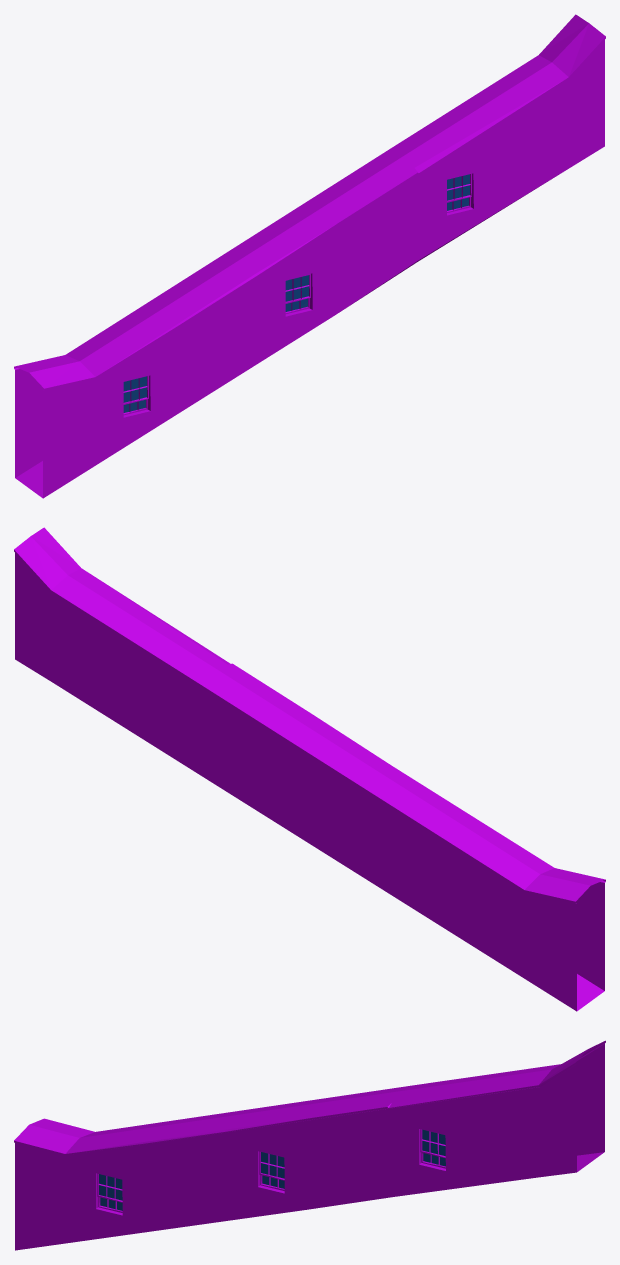
The model's file is Industrial_Path.fbx.
The picture shows the model from 3 angles, top to bottom: view 1: azimuth 30°, elevation 25°; view 2: azimuth 150°, elevation 25°; view 3: azimuth 330°, elevation 25°; orthographic projection.
Visible parts, largest first — view 1: SM_Backhill_Industrial_03.mo; view 2: SM_Backhill_Industrial_03.mo; view 3: SM_Backhill_Industrial_03.mo.
Part boxes in pixels (bbox=[...]): SM_Backhill_Industrial_03.mo: bbox=[14, 14, 605, 498]; SM_Backhill_Industrial_03.mo: bbox=[14, 527, 605, 1011]; SM_Backhill_Industrial_03.mo: bbox=[14, 1040, 605, 1250].
Size of the model in its own units: 2216 by 1238 by 207.
